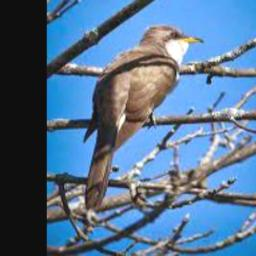Cuckoo: (81, 25, 202, 211)
